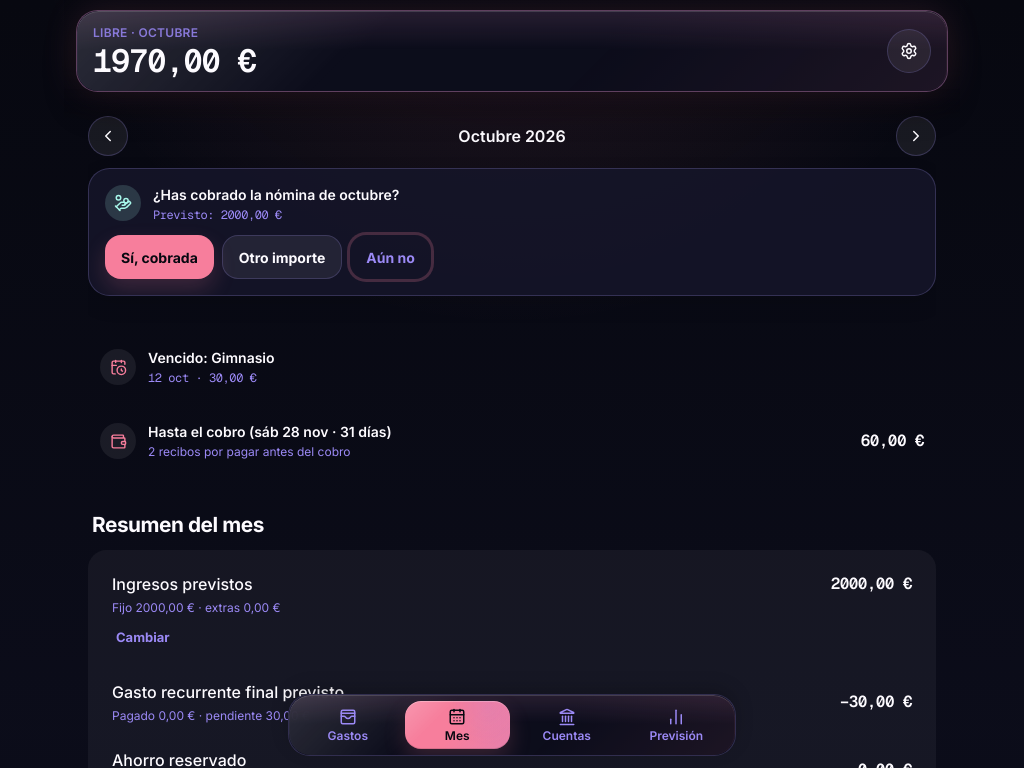
Test case: MonthDashboard salary prompt focus › hands the focus to the month title after 'Aún no'
The width and height of the screenshot is (1024, 768).
Click the button "Aún no" at (390, 257), box [350,235,431,279]
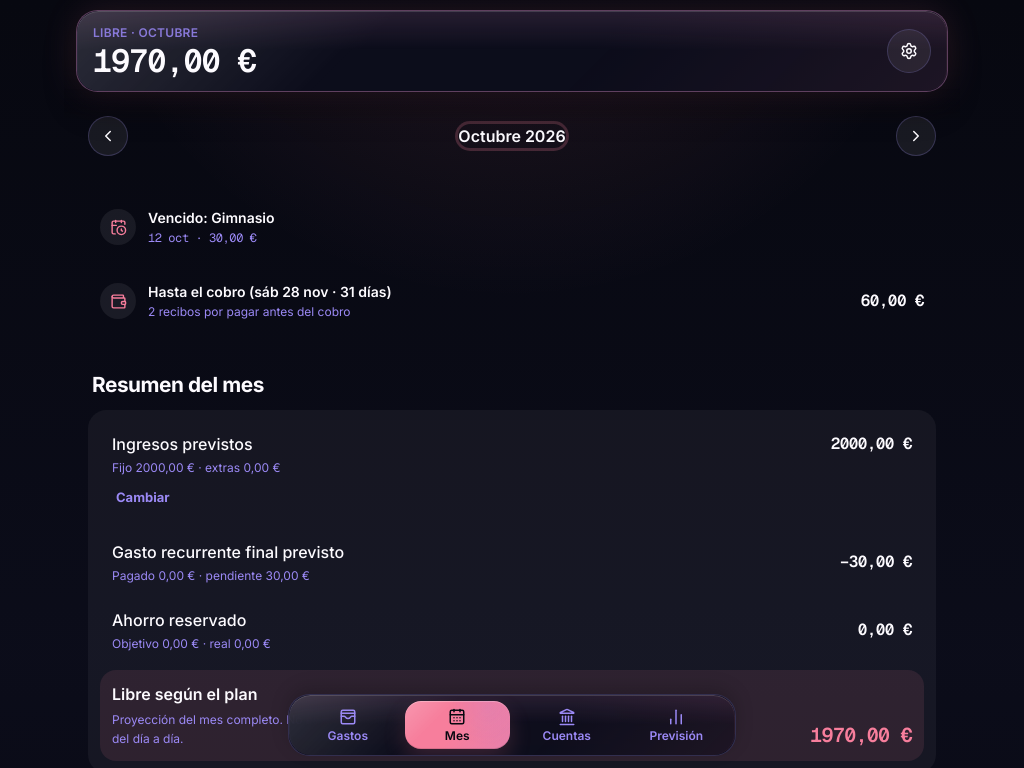
Now the heading "¿Has cobrado la nómina de octubre?" is gone
